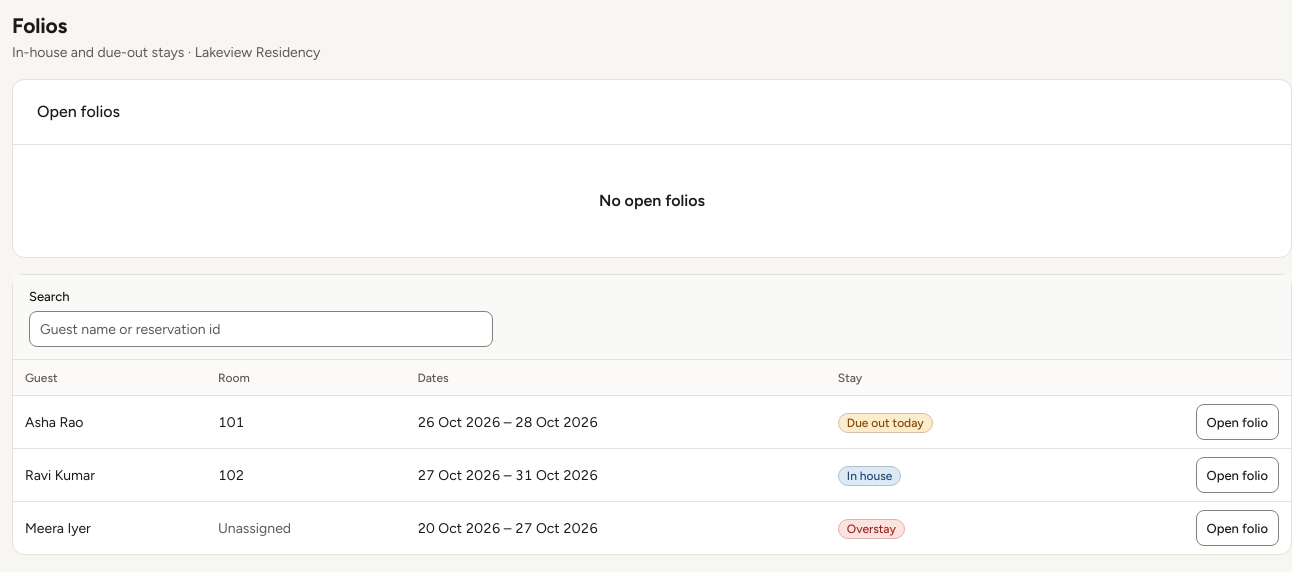
Test: FoliosDirectoryScreen › falls back to the exact reservation search when nothing in house matches
The width and height of the screenshot is (1292, 572).
expect the link "Asha Rao" is shown: met, box [25,414,83,431]
In the search field labelled "Search": (261, 330) [29,312,493,348], type "res_gone"
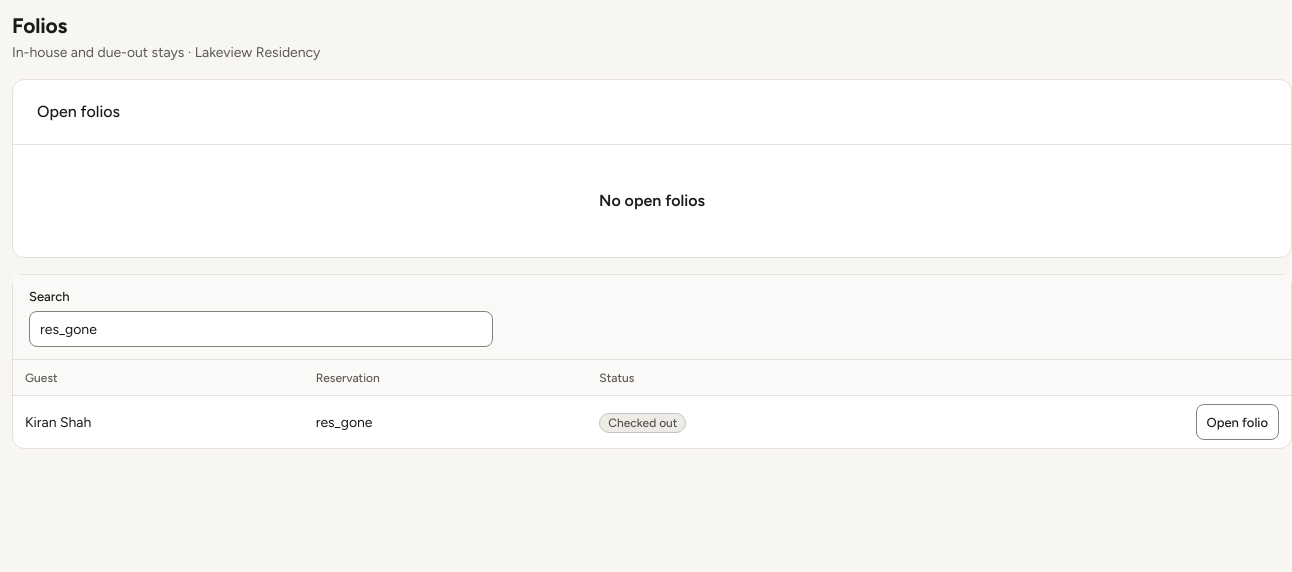
expect the link "Kiran Shah" is shown: met, box [25,414,91,431]
